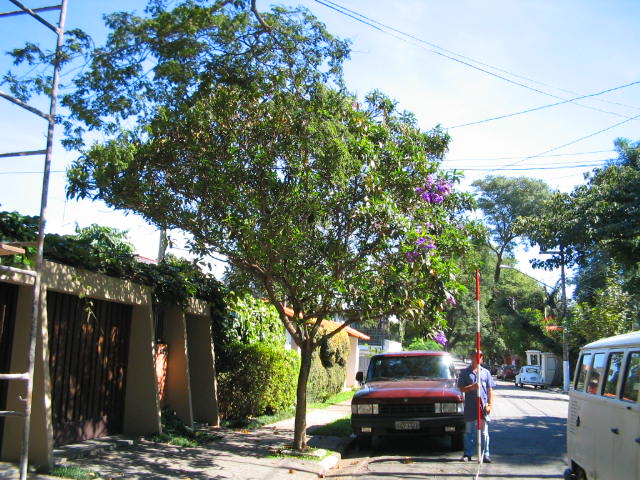crown: (71, 57, 493, 335)
stem: (279, 343, 325, 453)
stick: (469, 268, 488, 463)
tree: (67, 55, 492, 453)
